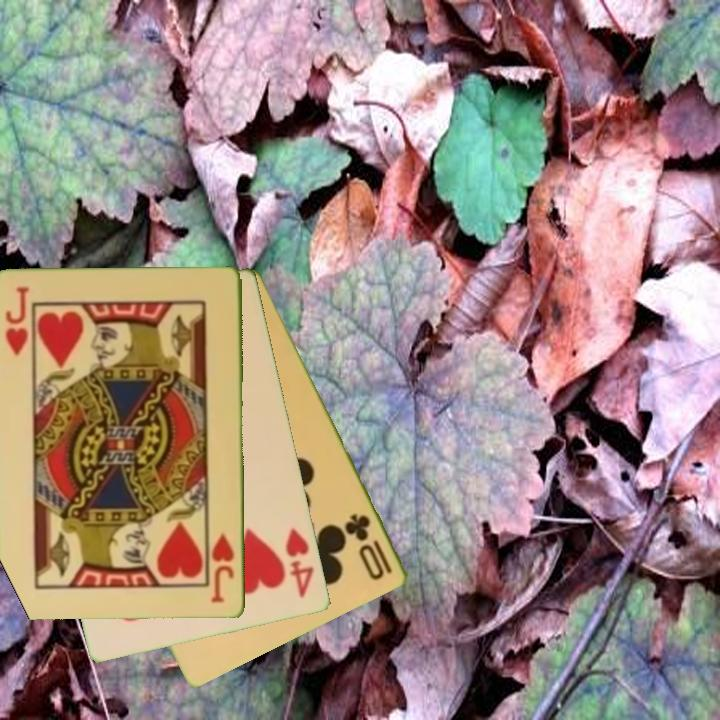10c: (342, 510, 396, 584)
4h: (282, 524, 317, 602)
Jh: (2, 284, 33, 359), (208, 530, 237, 606)
